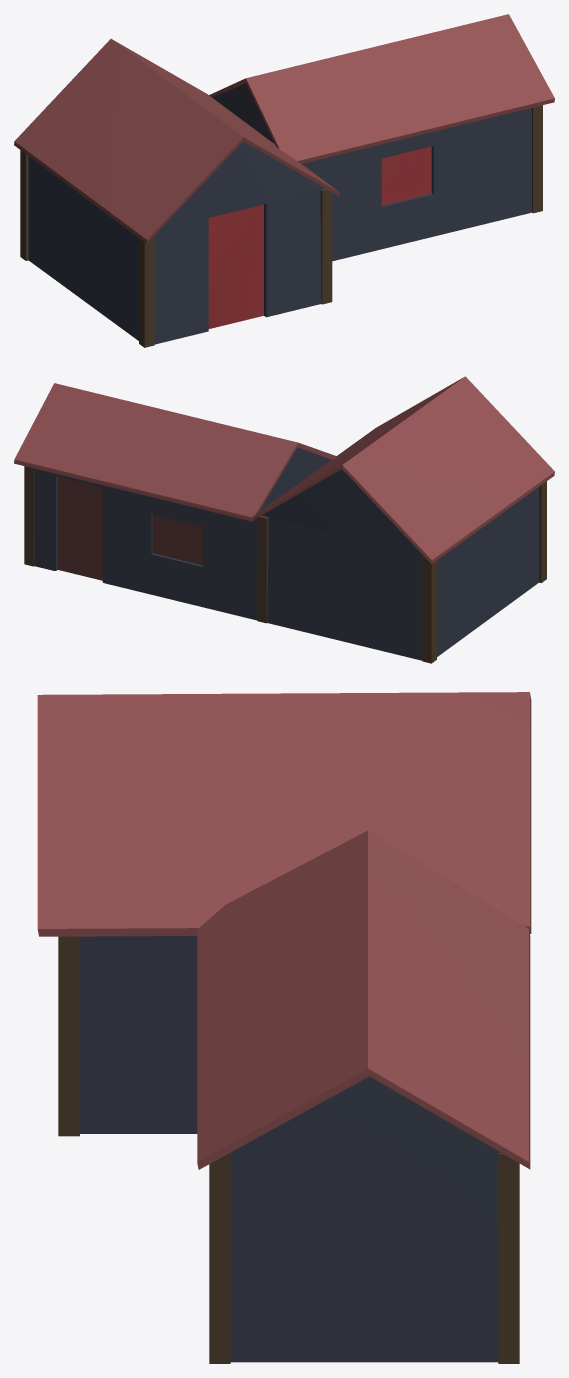
Rendered from CasasPerifericas1.fbx.
The picture shows the model from 3 angles, top to bottom: view 1: azimuth 30°, elevation 25°; view 2: azimuth 150°, elevation 25°; view 3: azimuth 270°, elevation 25°; orthographic projection. The views are drawn at different scales.
Visible parts, largest first — view 1: Casa01_LOD0; view 2: Casa01_LOD0; view 3: Casa01_LOD0.
Part boxes in pixels (x1,y1,x2,y2): Casa01_LOD0: (14, 14, 554, 347); Casa01_LOD0: (14, 376, 554, 663); Casa01_LOD0: (37, 692, 531, 1363).
Size of what is drawn, in the model's own units: 836 by 343 by 428.
